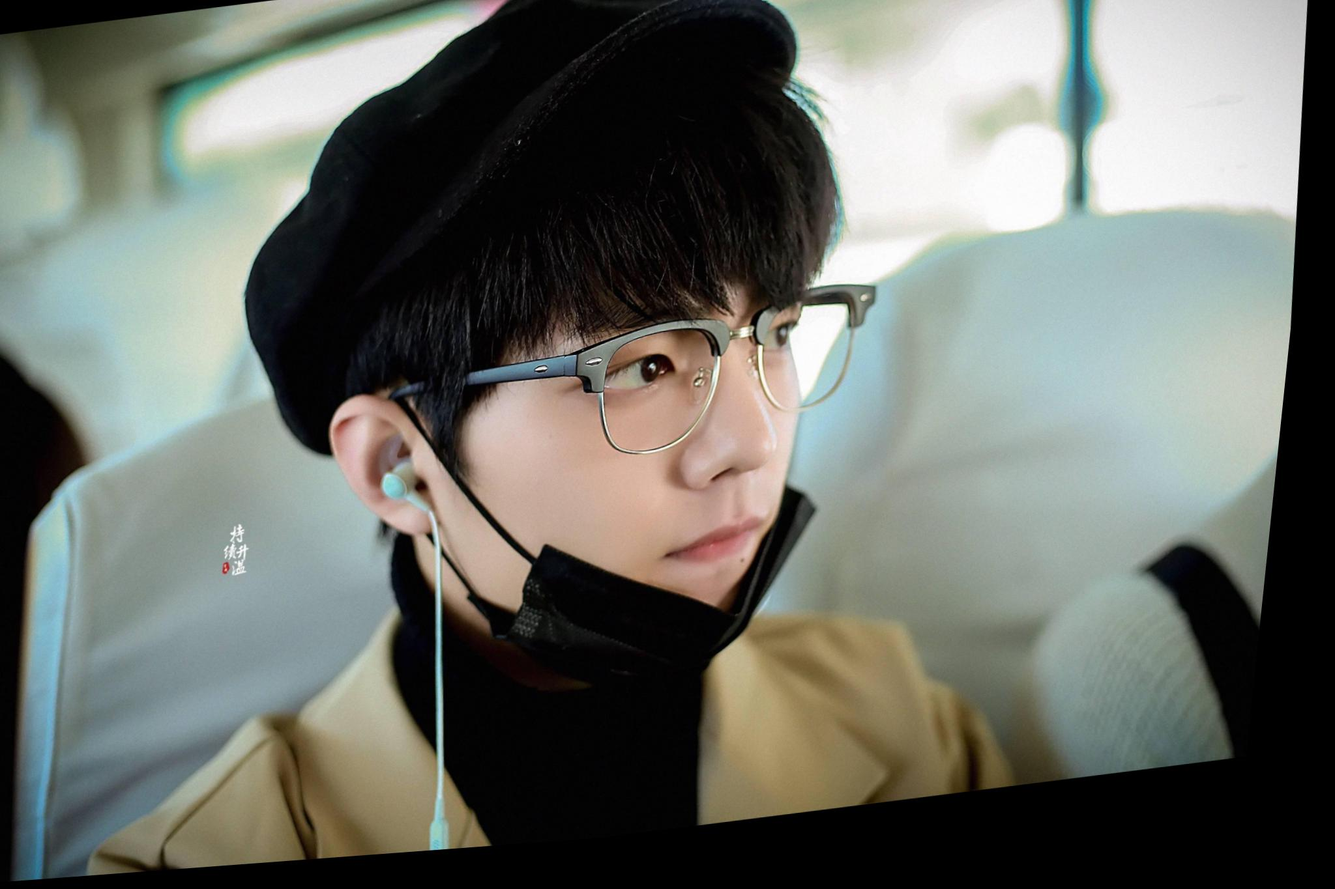WRONG: (448, 234, 847, 689)
